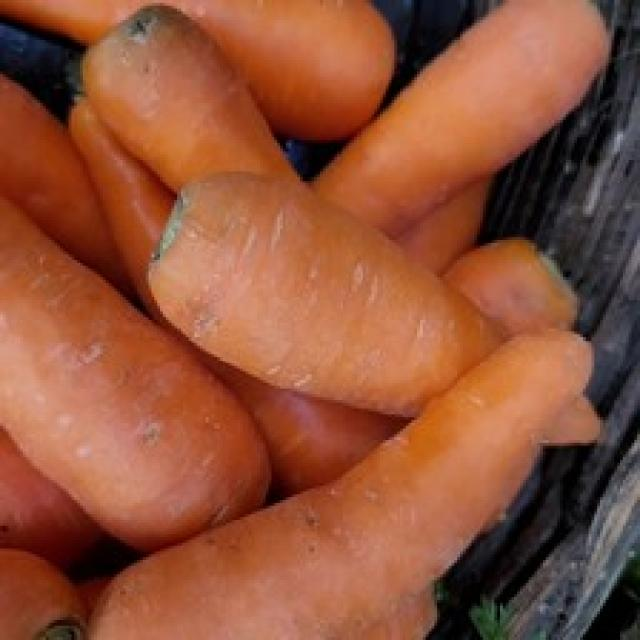Fresh_Carrot: (89, 331, 599, 640), (316, 2, 609, 228), (202, 175, 445, 412), (0, 274, 146, 546)
